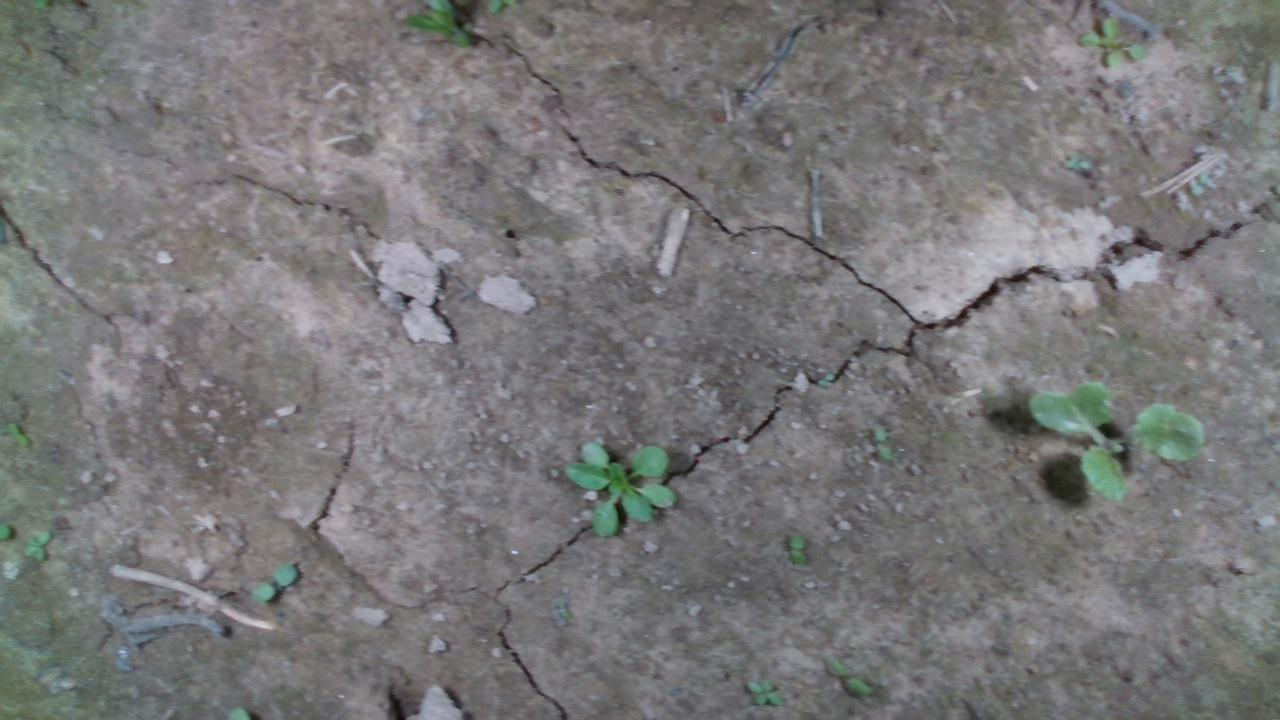weed: (246, 560, 298, 604), (825, 650, 874, 694), (744, 677, 781, 706), (21, 529, 50, 563), (870, 420, 893, 460), (787, 531, 806, 565), (6, 419, 28, 446)
